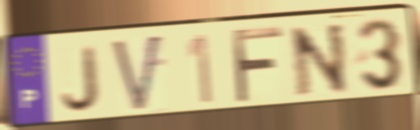1: (185, 31, 214, 108)
3: (353, 16, 406, 94)
F: (229, 25, 287, 107)
J: (59, 43, 102, 114)
N: (288, 20, 351, 99)
V: (109, 31, 166, 115)
